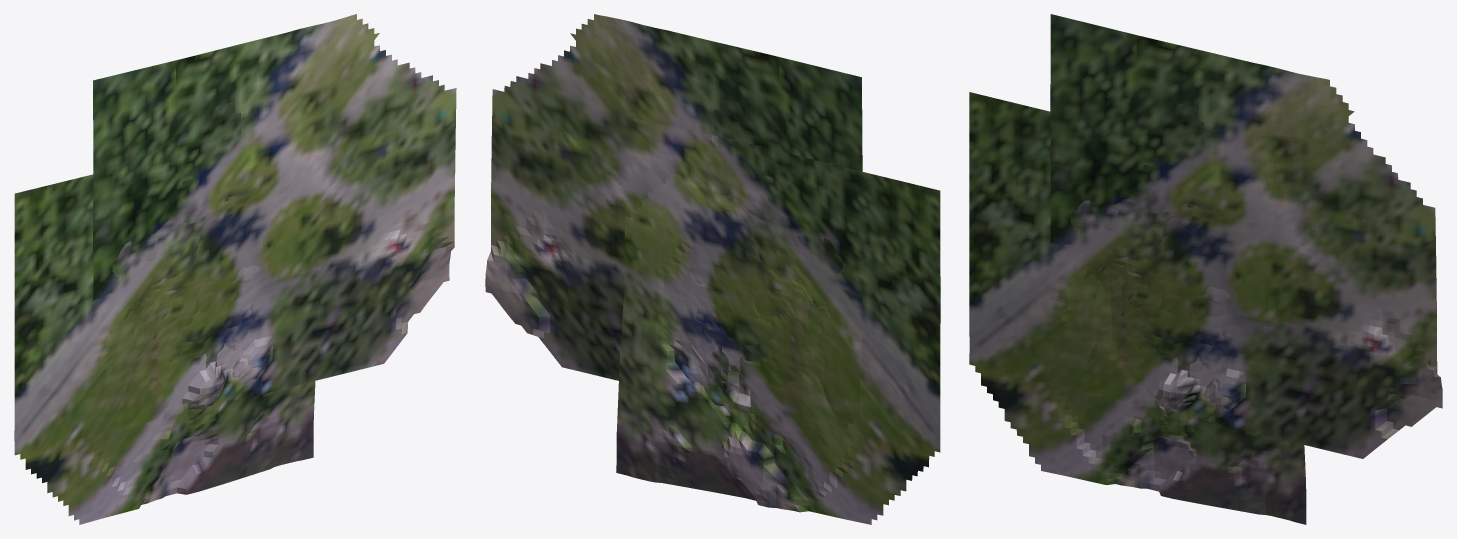
File: combined_split_3.obj
The picture shows the model from 3 angles, left to right: view 1: azimuth 30°, elevation 25°; view 2: azimuth 150°, elevation 25°; view 3: azimuth 330°, elevation 25°; orthographic projection. The views are drawn at different scales.
Size of the model in its own units: 99.54 by 94.79 by 6.14.
